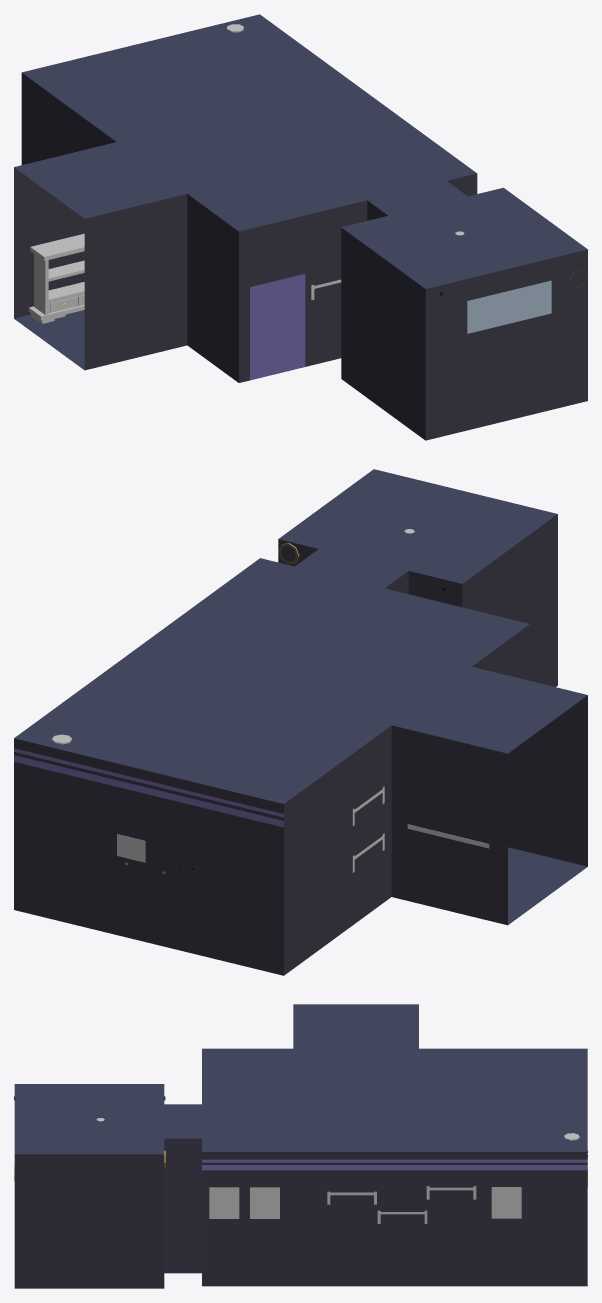
Rendered from INT_DoxxHome.fbx.
The picture shows the model from 3 angles, top to bottom: view 1: azimuth 30°, elevation 25°; view 2: azimuth 150°, elevation 25°; view 3: azimuth 270°, elevation 25°; orthographic projection. The views are drawn at different scales.
Visible parts, largest first — view 1: INT_Doxxs, BathroomDoor, WoodShelf, Shelf.008; view 2: INT_Doxxs, PhotoFrames.007; view 3: INT_Doxxs, PhotoFrames.004, PhotoFrames.009, PhotoFrames.008.
Boxes of the visible parts, x1,y1,x2,y2 form: INT_Doxxs: [14, 14, 587, 440]; BathroomDoor: [250, 274, 305, 380]; WoodShelf: [28, 233, 84, 323]; Shelf.008: [467, 280, 551, 333]; INT_Doxxs: [14, 469, 587, 975]; PhotoFrames.007: [117, 834, 145, 862]; INT_Doxxs: [14, 1004, 587, 1288]; PhotoFrames.004: [491, 1187, 521, 1218]; PhotoFrames.009: [209, 1187, 239, 1218]; PhotoFrames.008: [250, 1187, 279, 1218].
Bounding box in the file's own units: 1053 × 445 × 1704.
